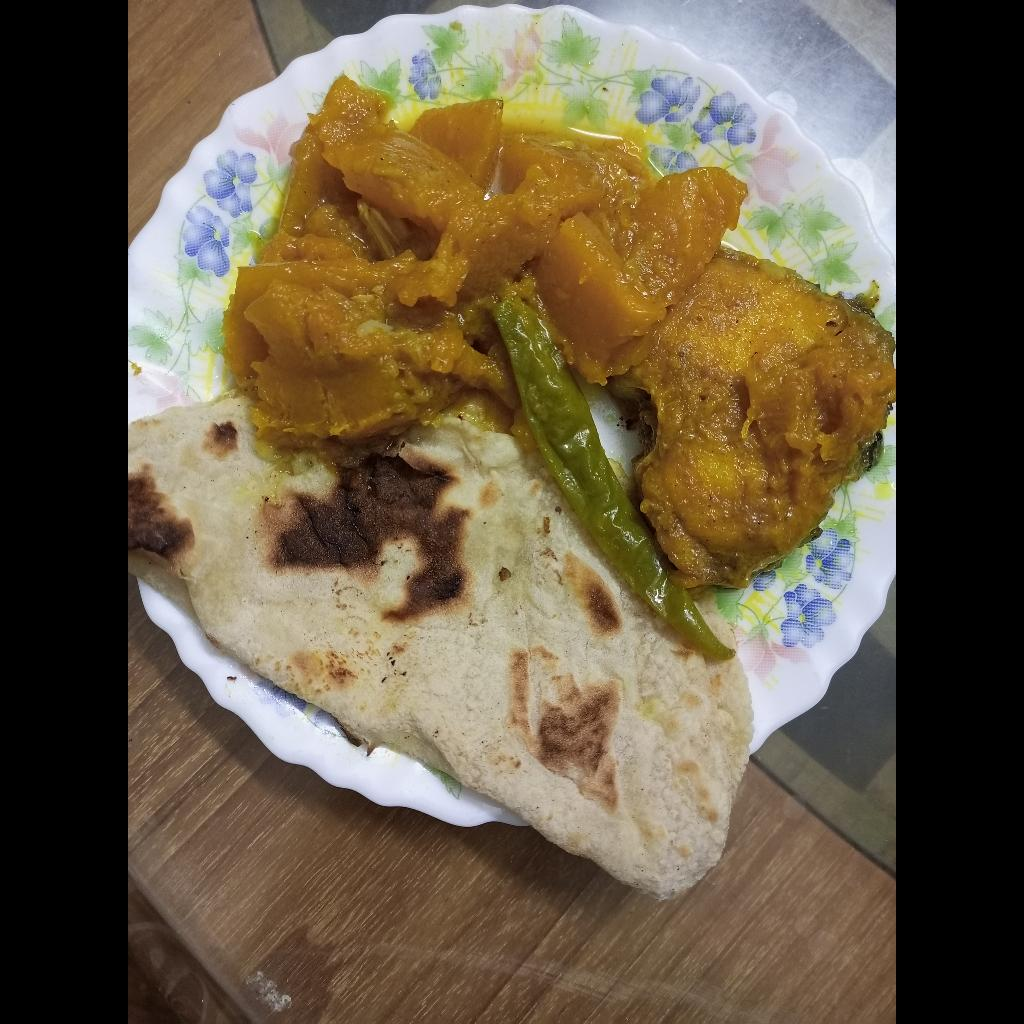fish: (618, 242, 896, 601)
kumra-vaji: (220, 77, 748, 435)
ruti: (128, 386, 763, 914)
